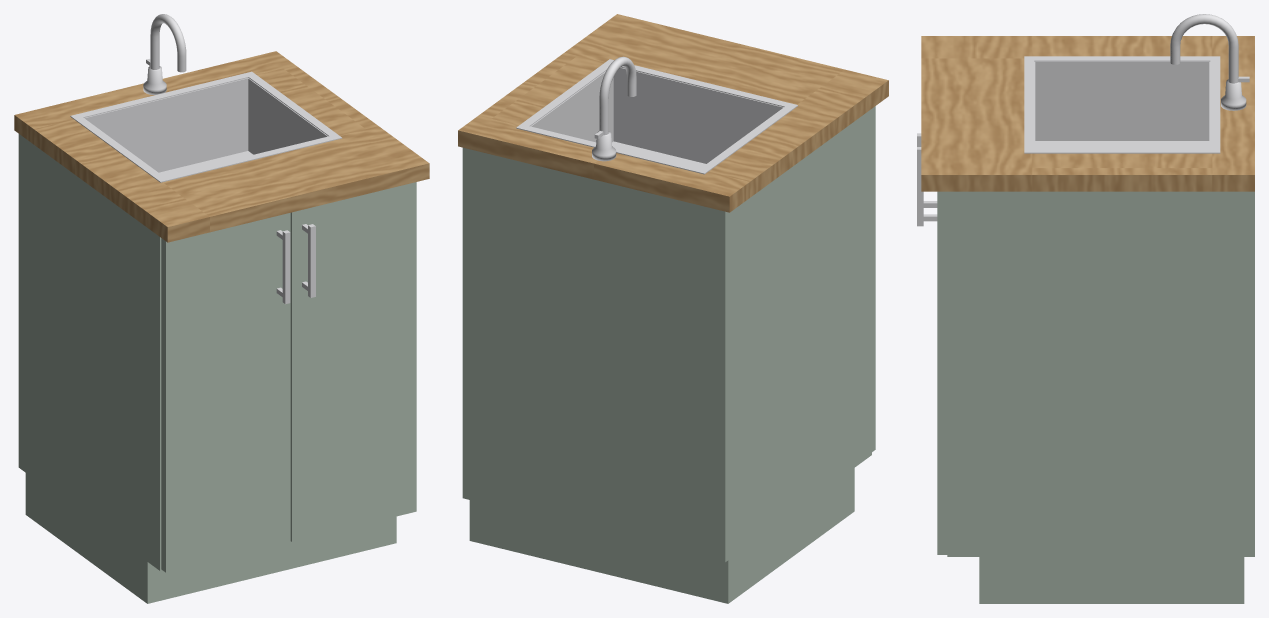
3 renders of one model, left to right at view 1: azimuth 30°, elevation 25°; view 2: azimuth 150°, elevation 25°; view 3: azimuth 270°, elevation 25°, orthographic. The views are drawn at different scales.
Visible parts, largest first — view 1: Kitchen sink unit; view 2: Kitchen sink unit; view 3: Kitchen sink unit.
Boxes of the visible parts, box(x1,y1,x2,y2) form: Kitchen sink unit: box(14, 14, 429, 603); Kitchen sink unit: box(458, 14, 888, 603); Kitchen sink unit: box(917, 14, 1254, 603).
Size of the model in its own units: 0.62 by 1.09 by 0.637.
Materials: 3 (1 with a texture image).
